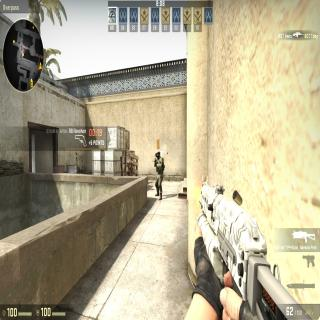CT-Body: (154, 149, 164, 201)
CT-Head: (155, 149, 160, 159)
